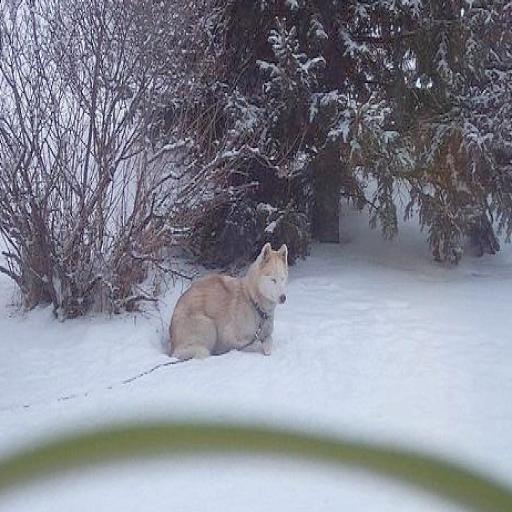dog_face: (252, 242, 289, 308)
